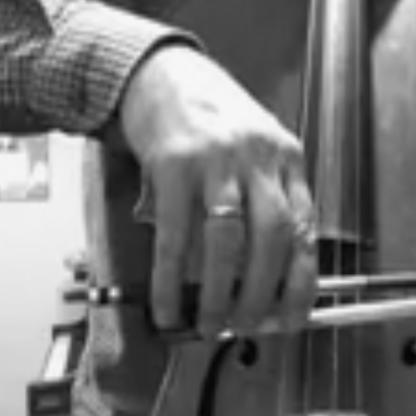good: (121, 63, 330, 354)
